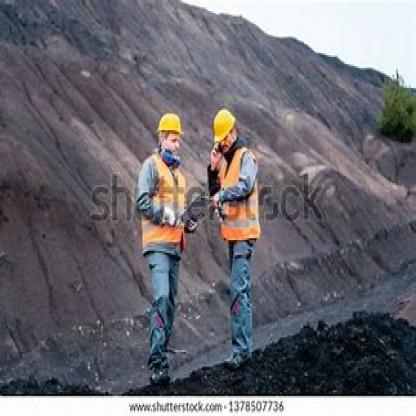person: (131, 86, 192, 394), (198, 92, 263, 381)
